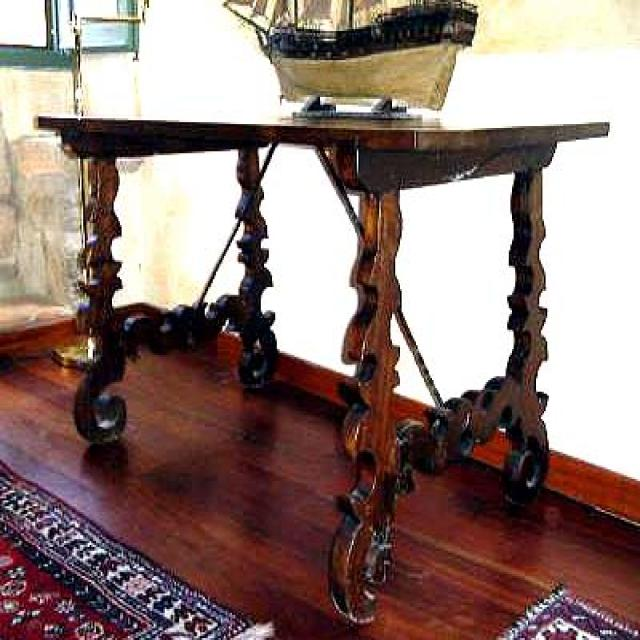table: (31, 105, 613, 623)
